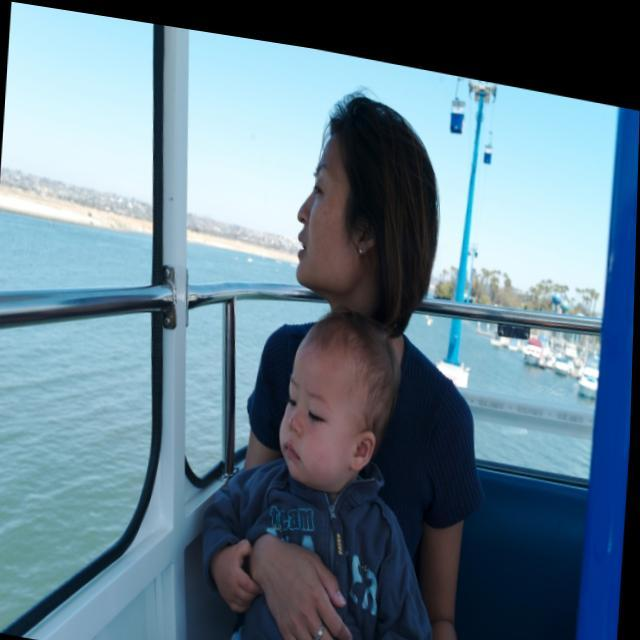Nonhelmet: (290, 88, 442, 334), (266, 306, 409, 499)
